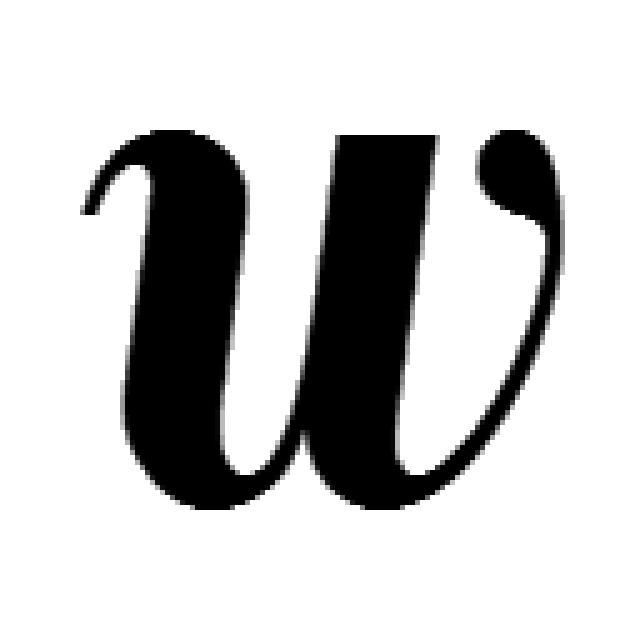W: (70, 110, 575, 520)
